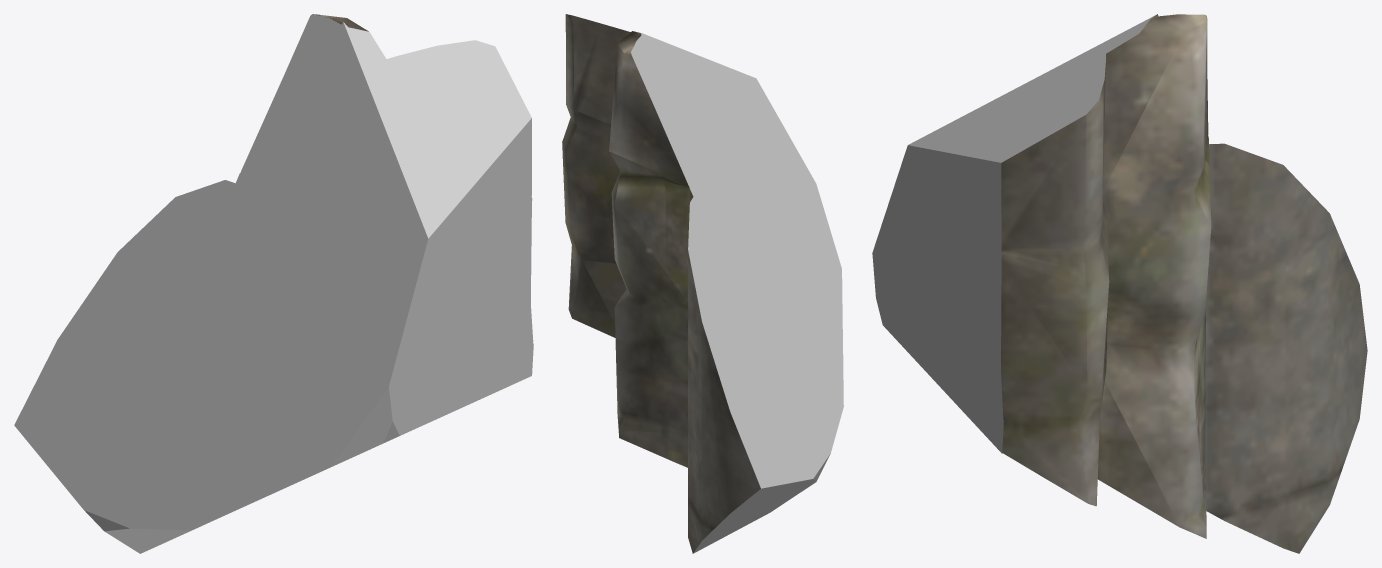
The model's file is ColumnDamage08_4.fbx.
The picture shows the model from 3 angles, left to right: view 1: azimuth 30°, elevation 25°; view 2: azimuth 150°, elevation 25°; view 3: azimuth 270°, elevation 25°; orthographic projection. The views are drawn at different scales.
Parts seen in each view (by area): view 1: ColumnDamage08_DM.004; view 2: ColumnDamage08_DM.004; view 3: ColumnDamage08_DM.004.
Part boxes in pixels (box(x1,y1,x2,y2)): ColumnDamage08_DM.004: box(14, 14, 533, 553); ColumnDamage08_DM.004: box(562, 14, 843, 553); ColumnDamage08_DM.004: box(872, 14, 1367, 553).
Bounding box in the file's own units: 137 × 196 × 145.
